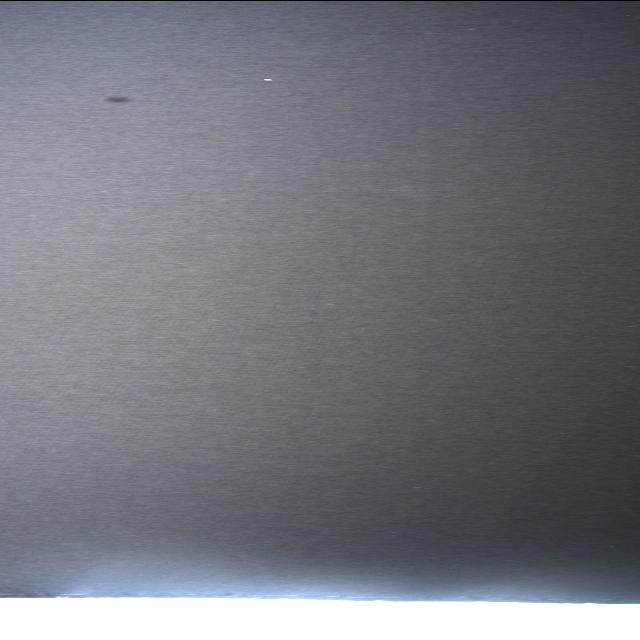crease: (402, 117, 457, 255)
whiteDefect: (240, 71, 291, 80), (448, 25, 481, 32)
